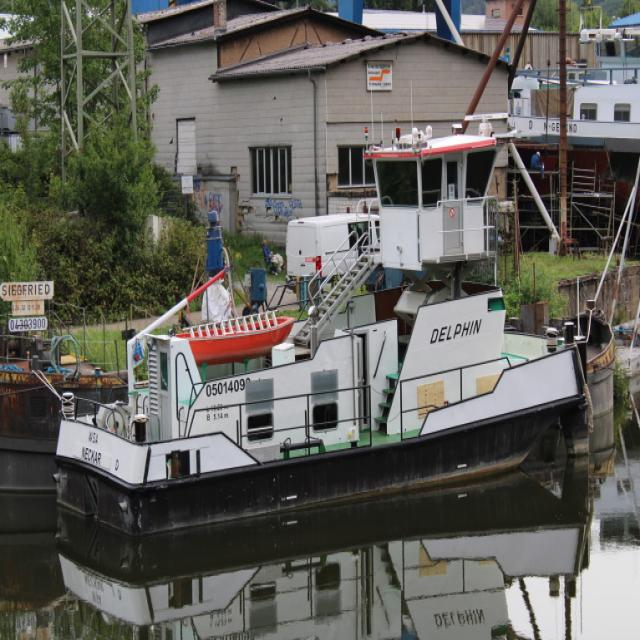tugboat: (50, 105, 595, 558)
